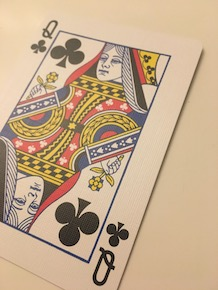QueenOfClubs: (1, 7, 208, 290)
